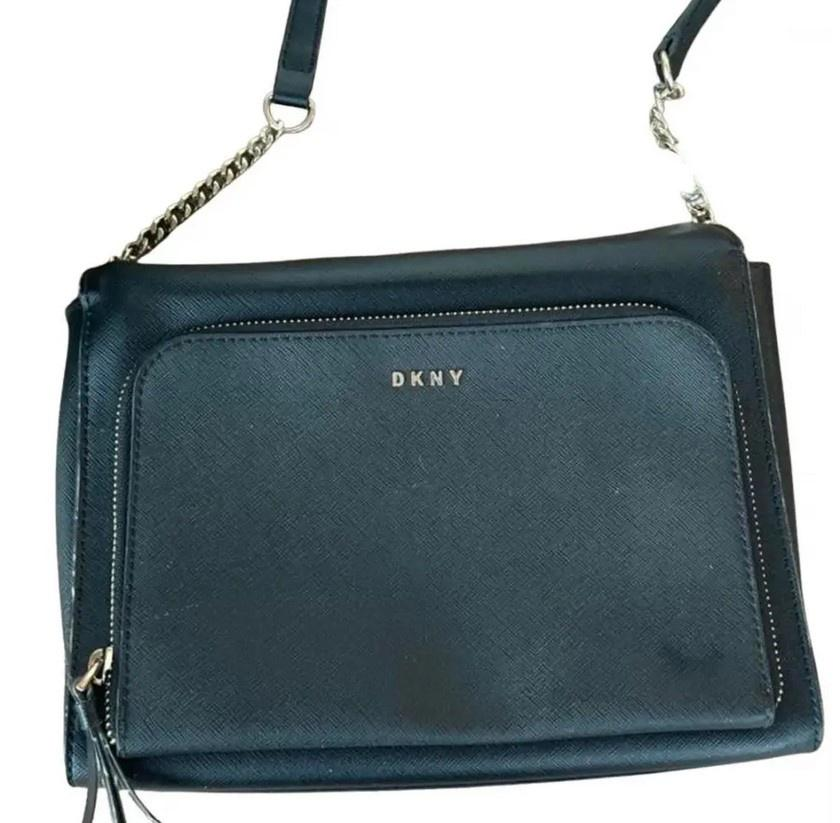DKNY: (392, 369, 464, 387)
